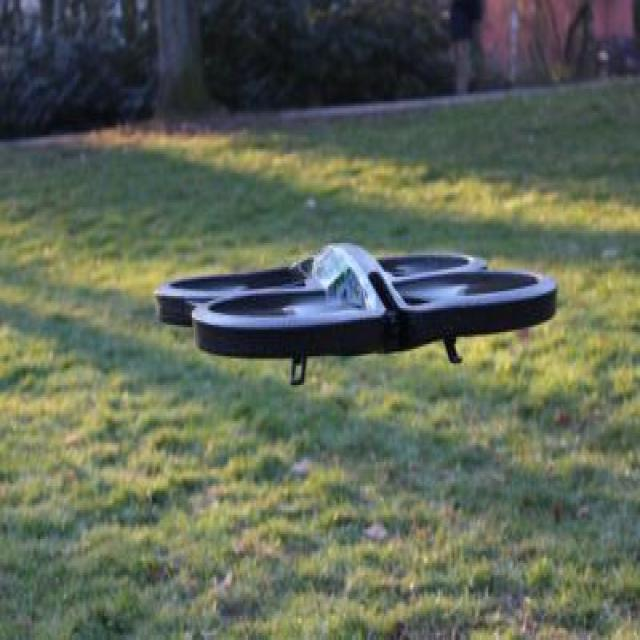drone: (150, 235, 559, 388)
